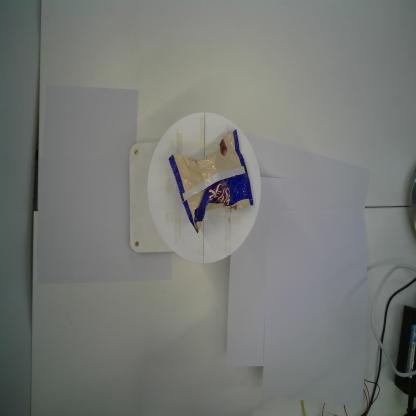Dessert: (168, 129, 254, 235)
